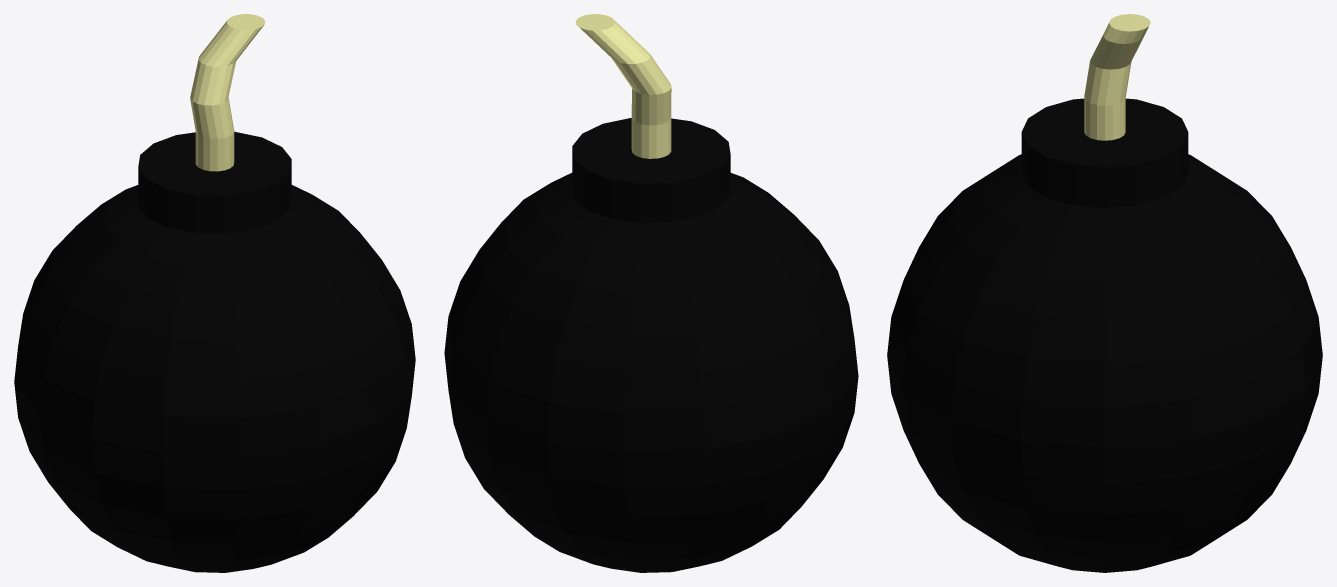
Rendered from bomb.fbx.
3 renders of one model, left to right at view 1: azimuth 30°, elevation 25°; view 2: azimuth 150°, elevation 25°; view 3: azimuth 270°, elevation 25°, orthographic. The views are drawn at different scales.
Visible parts, largest first — view 1: Sphere; view 2: Sphere; view 3: Sphere.
Part boxes in pixels (x1,y1,x2,y2): Sphere: (14, 14, 415, 572); Sphere: (444, 14, 858, 572); Sphere: (887, 14, 1322, 572).
Bounding box in the file's own units: 200 × 280 × 200.
